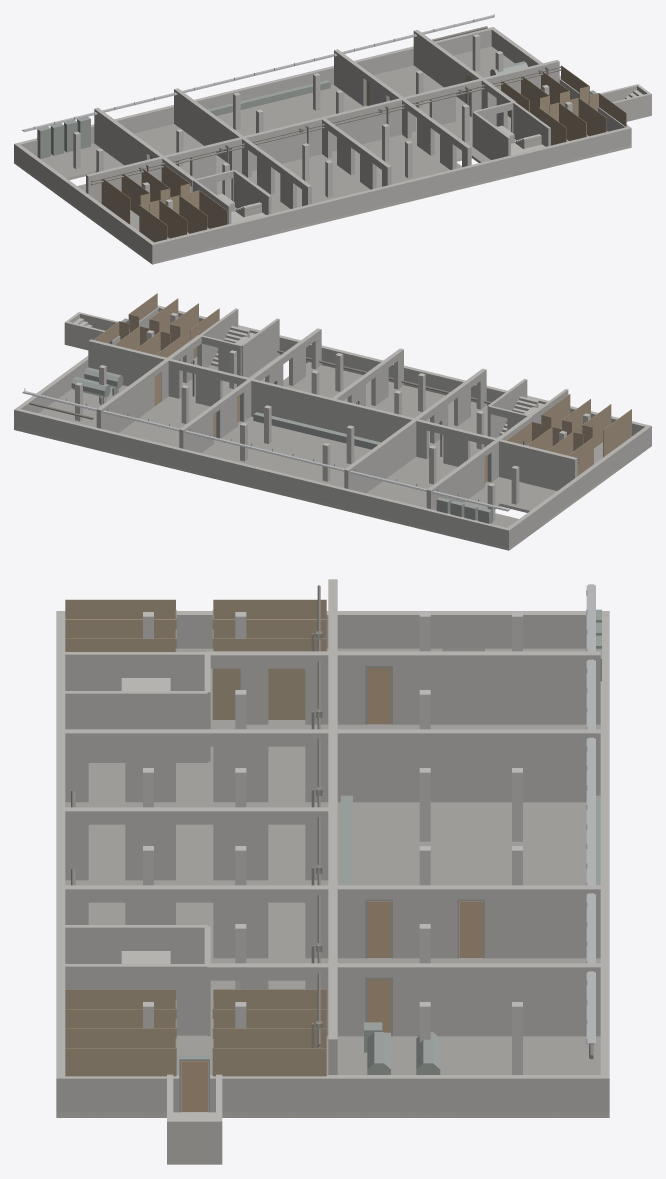
The model's file is b3_basement.glb.
3 renders of one model, top to bottom at view 1: azimuth 30°, elevation 25°; view 2: azimuth 150°, elevation 25°; view 3: azimuth 270°, elevation 25°, orthographic. The views are drawn at different scales.
Parts seen in each view (by area): view 1: b3_bsm_wall_f-1__basement_wall, b3_bsm_floor_f-1__basement_floor, b3_bsm_grid_f-1__storage_grid, b3_bsm_column_f-1__column, b3_bsm_equip_f-1__equipment, b3_bsm_pipe_f-1__pipe, b3_bsm_floor_f-1__slab_edge, b3_bsm_tray_f-1__cable_tray, b3_bsm_pit_f-1__monolith, b3_bsm_fill_f-1__monolith, b3_bsm_stairs_f-1__monolith; view 2: b3_bsm_wall_f-1__basement_wall, b3_bsm_floor_f-1__basement_floor, b3_bsm_grid_f-1__storage_grid, b3_bsm_column_f-1__column, b3_bsm_equip_f-1__equipment, b3_bsm_floor_f-1__slab_edge, b3_bsm_tray_f-1__cable_tray, b3_bsm_pit_f-1__monolith, b3_bsm_pipe_f-1__pipe, b3_bsm_stairs_f-1__monolith; view 3: b3_bsm_wall_f-1__basement_wall, b3_bsm_floor_f-1__basement_floor, b3_bsm_grid_f-1__storage_grid, b3_bsm_column_f-1__column, b3_bsm_equip_f-1__equipment, b3_bsm_tray_f-1__cable_tray, b3_bsm_pit_f-1__monolith, b3_bsm_floor_f-1__slab_edge, b3_bsm_pipe_f-1__pipe, b3_door_548, b3_door_549, b3_door_550 (+3 smaller).
Boxes of the visible parts, x1,y1,x2,y2 form: b3_bsm_wall_f-1__basement_wall: (14, 27, 631, 264); b3_bsm_floor_f-1__basement_floor: (40, 46, 607, 238); b3_bsm_grid_f-1__storage_grid: (101, 65, 626, 242); b3_bsm_column_f-1__column: (73, 34, 572, 209); b3_bsm_equip_f-1__equipment: (37, 61, 596, 167); b3_bsm_pipe_f-1__pipe: (91, 26, 561, 184); b3_bsm_floor_f-1__slab_edge: (14, 139, 631, 264); b3_bsm_tray_f-1__cable_tray: (22, 14, 494, 131); b3_bsm_pit_f-1__monolith: (600, 84, 651, 121); b3_bsm_fill_f-1__monolith: (217, 125, 545, 223); b3_bsm_stairs_f-1__monolith: (235, 134, 541, 217); b3_bsm_wall_f-1__basement_wall: (14, 305, 651, 550); b3_bsm_floor_f-1__basement_floor: (38, 355, 602, 527); b3_bsm_grid_f-1__storage_grid: (94, 293, 631, 475); b3_bsm_column_f-1__column: (75, 312, 590, 521); b3_bsm_equip_f-1__equipment: (71, 318, 522, 523); b3_bsm_floor_f-1__slab_edge: (14, 362, 651, 550); b3_bsm_tray_f-1__cable_tray: (22, 388, 510, 511); b3_bsm_pit_f-1__monolith: (64, 312, 117, 350); b3_bsm_pipe_f-1__pipe: (29, 340, 631, 463); b3_bsm_stairs_f-1__monolith: (211, 326, 538, 435); b3_bsm_wall_f-1__basement_wall: (56, 579, 609, 1117); b3_bsm_floor_f-1__basement_floor: (65, 648, 600, 1112); b3_bsm_grid_f-1__storage_grid: (65, 599, 326, 1076); b3_bsm_column_f-1__column: (143, 612, 522, 1074); b3_bsm_equip_f-1__equipment: (179, 609, 601, 1112); b3_bsm_tray_f-1__cable_tray: (586, 584, 595, 1044); b3_bsm_pit_f-1__monolith: (167, 1074, 222, 1164); b3_bsm_floor_f-1__slab_edge: (56, 648, 609, 1117); b3_bsm_pipe_f-1__pipe: (71, 585, 593, 1059); b3_door_548: (459, 901, 483, 957); b3_door_549: (367, 667, 390, 724); b3_door_550: (181, 1061, 207, 1111).
Bounding box in the file's own units: 39.6 × 2.68 × 18.
